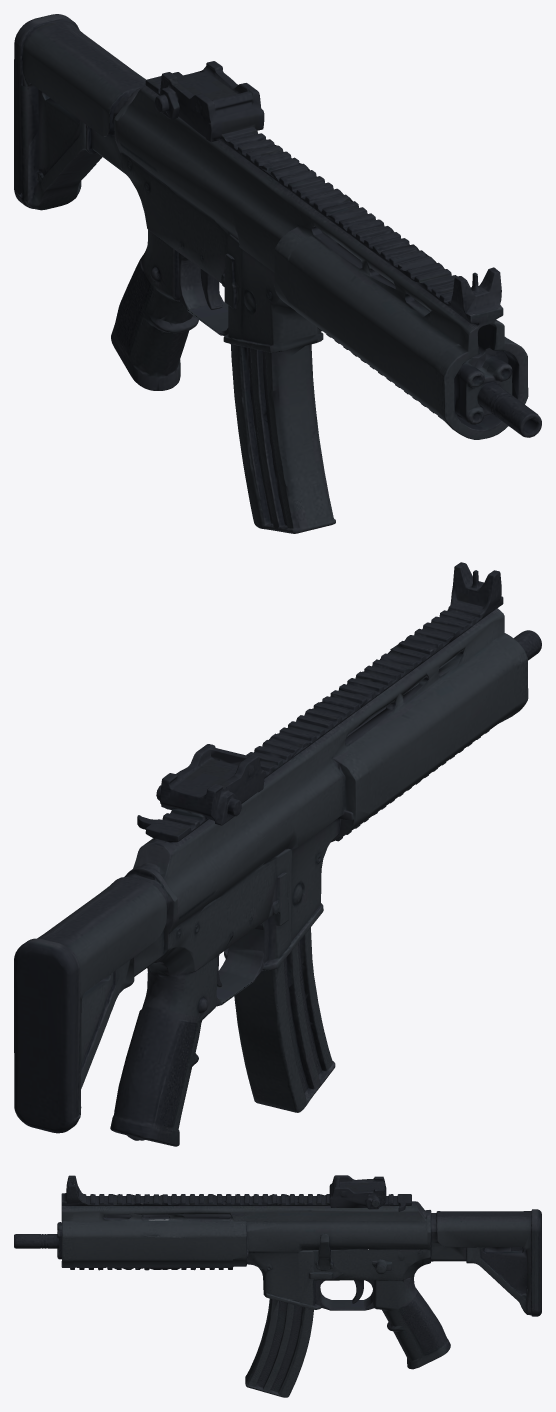
File: smg.glb
3 renders of one model, top to bottom at view 1: azimuth 30°, elevation 25°; view 2: azimuth 150°, elevation 25°; view 3: azimuth 270°, elevation 25°, orthographic. The views are drawn at different scales.
Visible parts, largest first — view 1: modelo; view 2: modelo; view 3: modelo.
Part boxes in pixels (left/top/right/bottom): modelo: left=14, top=14, right=541, bottom=533; modelo: left=14, top=562, right=541, bottom=1146; modelo: left=14, top=1175, right=541, bottom=1397.
Size of the model in its own units: 0.0663 by 0.2745 by 0.62.
1 material, 1 textured.
